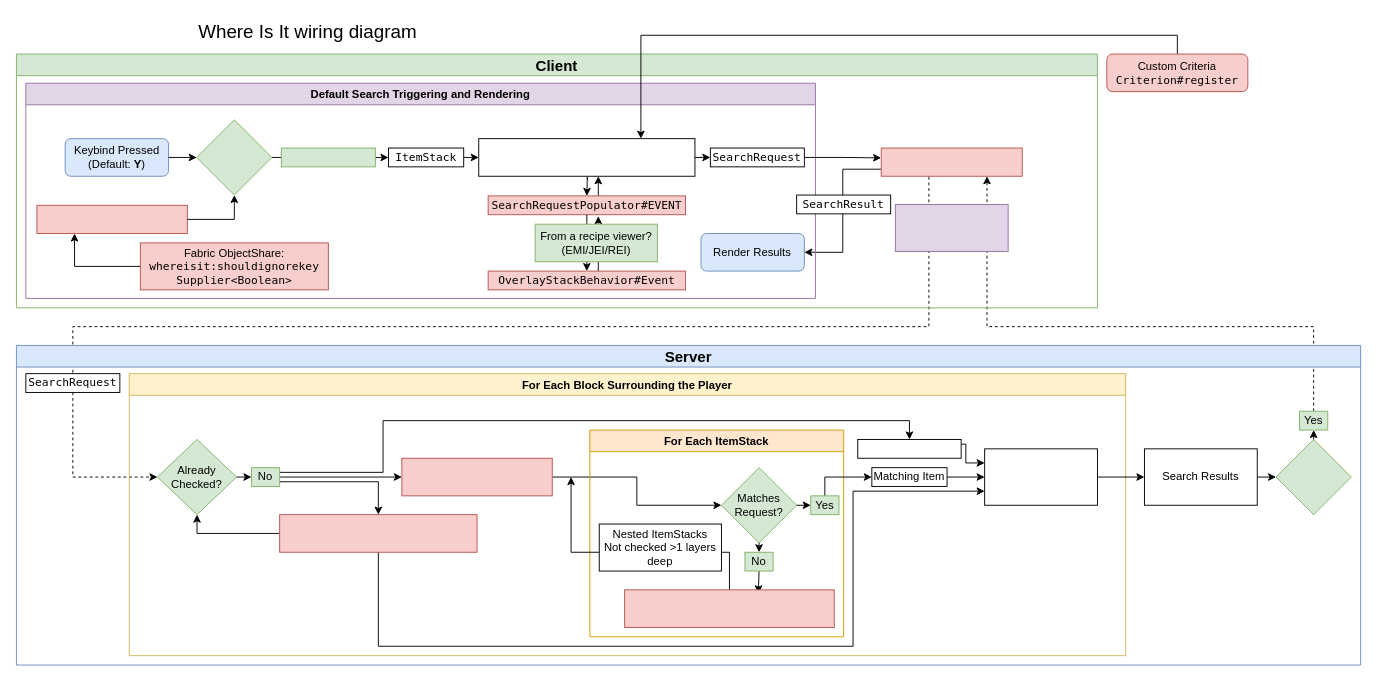
The diagram is 1377 pixels wide and 682 high, and some of its shapes have lost their labels. The centre of each missing label's shape, as x and y in pixels:
"Add criteria to the search request" goes at pixel 586 157.
"All return false" goes at pixel 327 157.
"Any results found?" goes at pixel 1313 477.
"Create Search Result" goes at pixel 1040 476.
"Get Block Name" goes at pixel 909 448.
"Get connected blocks ConnectedBlocksGrabber#EVENT" goes at pixel 378 533.
"Get items from block BlockSearcher#EVENT" goes at pixel 476 476.
"Get nested items NestedItemStackSearcher#EVENT" goes at pixel 729 608.
"SearchInvoker#EVENT" goes at pixel 951 161.
"Should Ignore?" goes at pixel 234 157.
"ShouldIgnoreKey#EVENT" goes at pixel 111 218.
"Where Is It's Default Invoker (asking the server)" goes at pixel 951 227.
